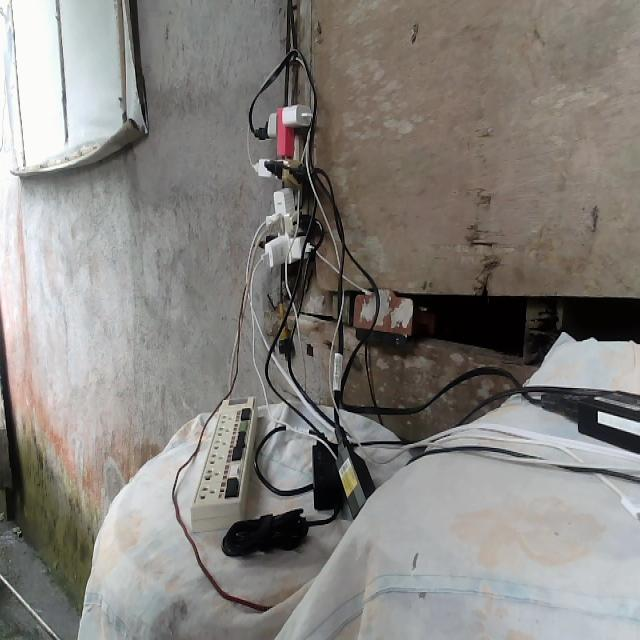-: (241, 99, 330, 272)
